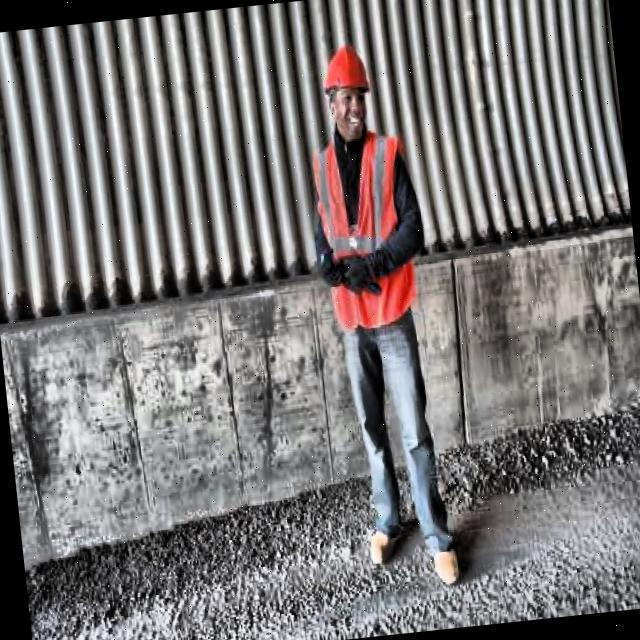helmet: (313, 32, 381, 146)
